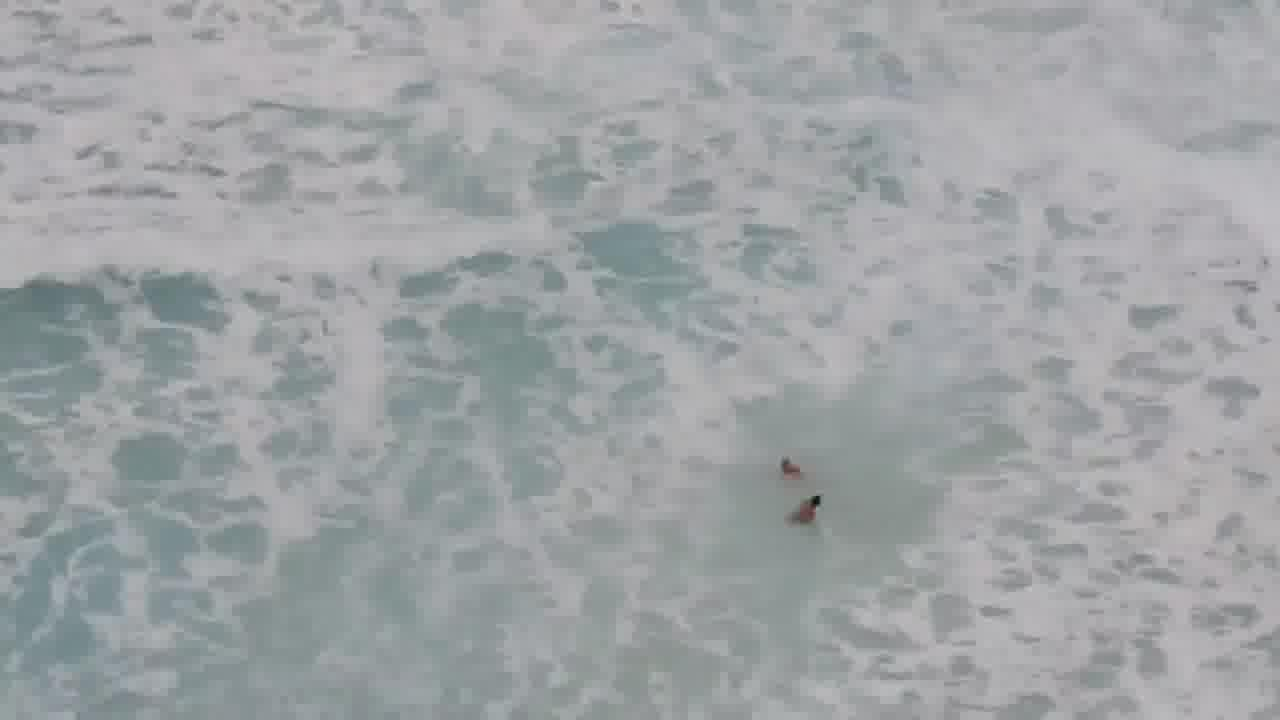swimmer: (767, 451, 809, 484), (793, 498, 828, 522)
